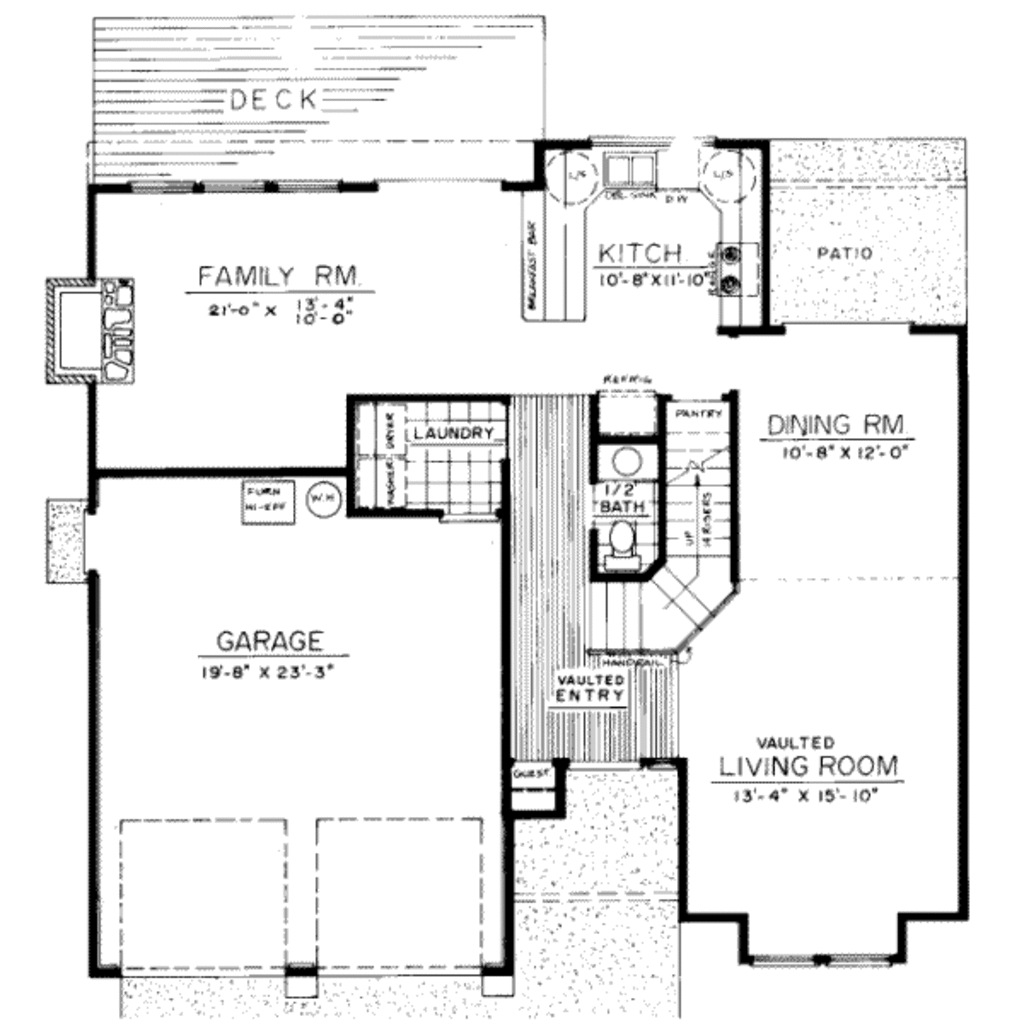large_sink: (603, 513, 650, 569)
stairs: (580, 387, 760, 660)
twin_sink: (584, 141, 691, 203)
window: (822, 939, 895, 972), (748, 942, 814, 967)
